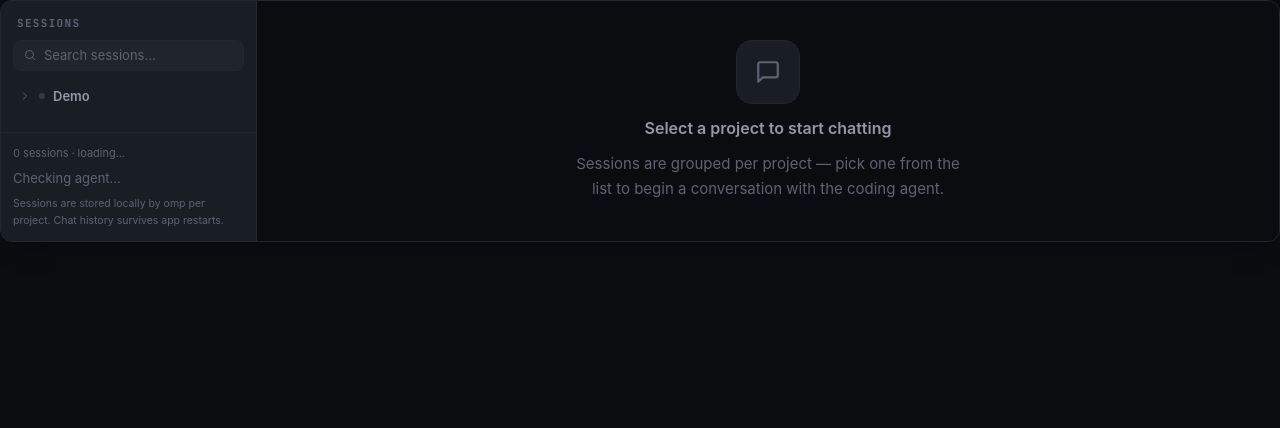
Test: AgentView › clicking a project row only expands its session list — it does not open the chat
expect the text "Select a project to start chatting" is shown: met, box [645,116,892,140]
Click the button "Demo" at point(128, 96), box [9,78,248,114]
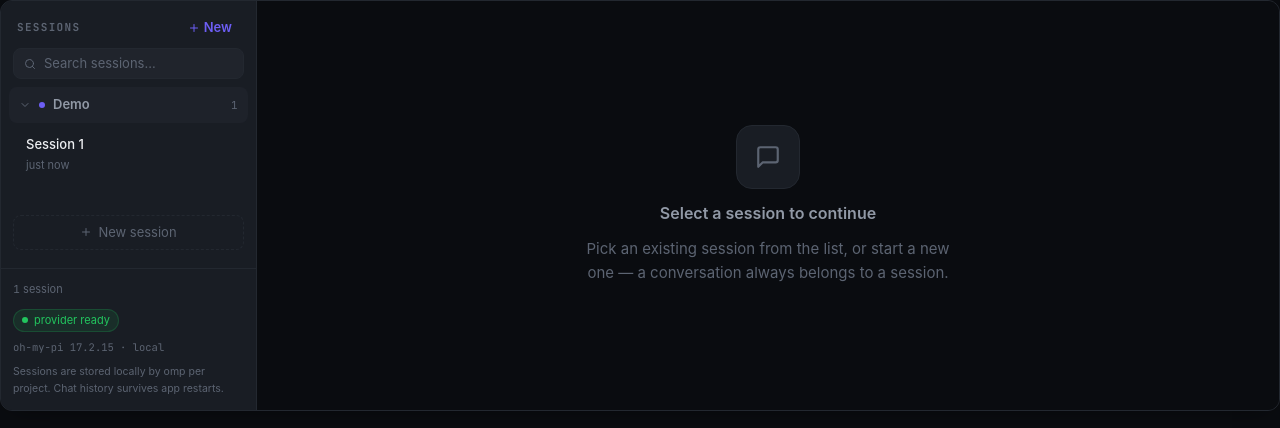
expect the text "Session 1" is shown: met, box [26,136,84,153]
expect the text "Select a session to continue" is shown: met, box [660,201,876,225]
